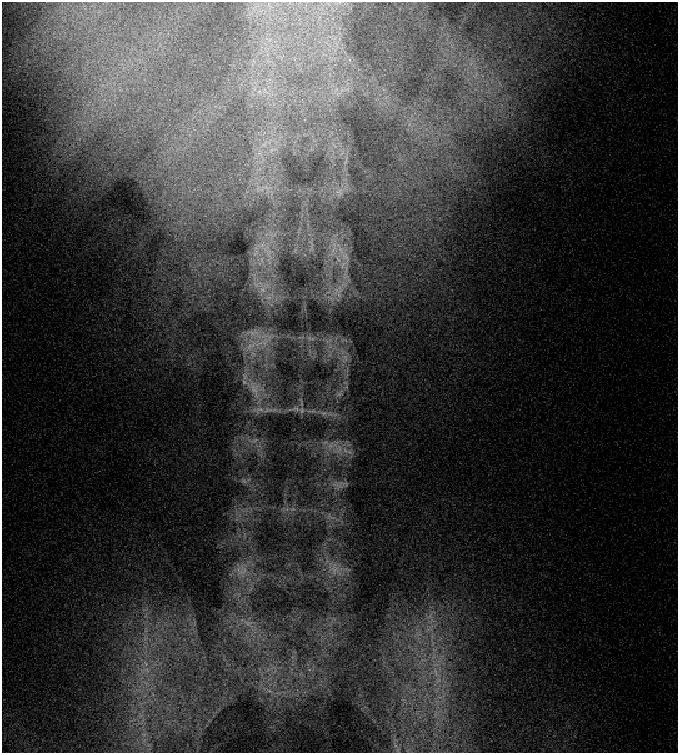lumbar scoliosis: (223, 232, 380, 637)
